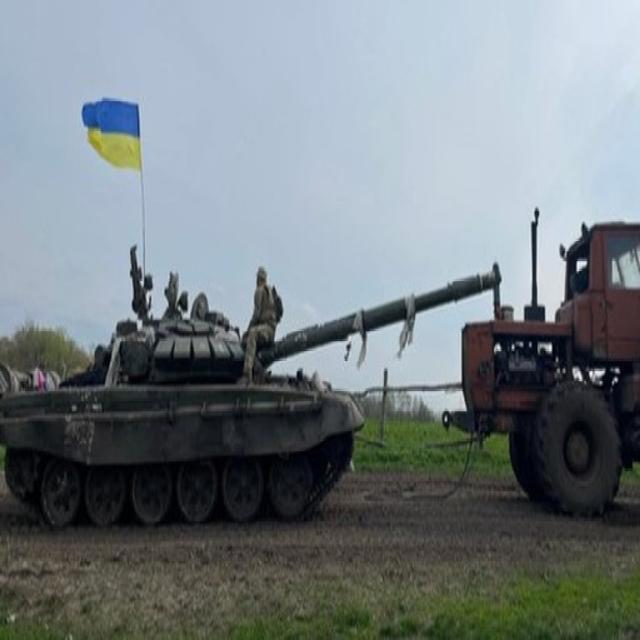TANK: (0, 238, 506, 560)
